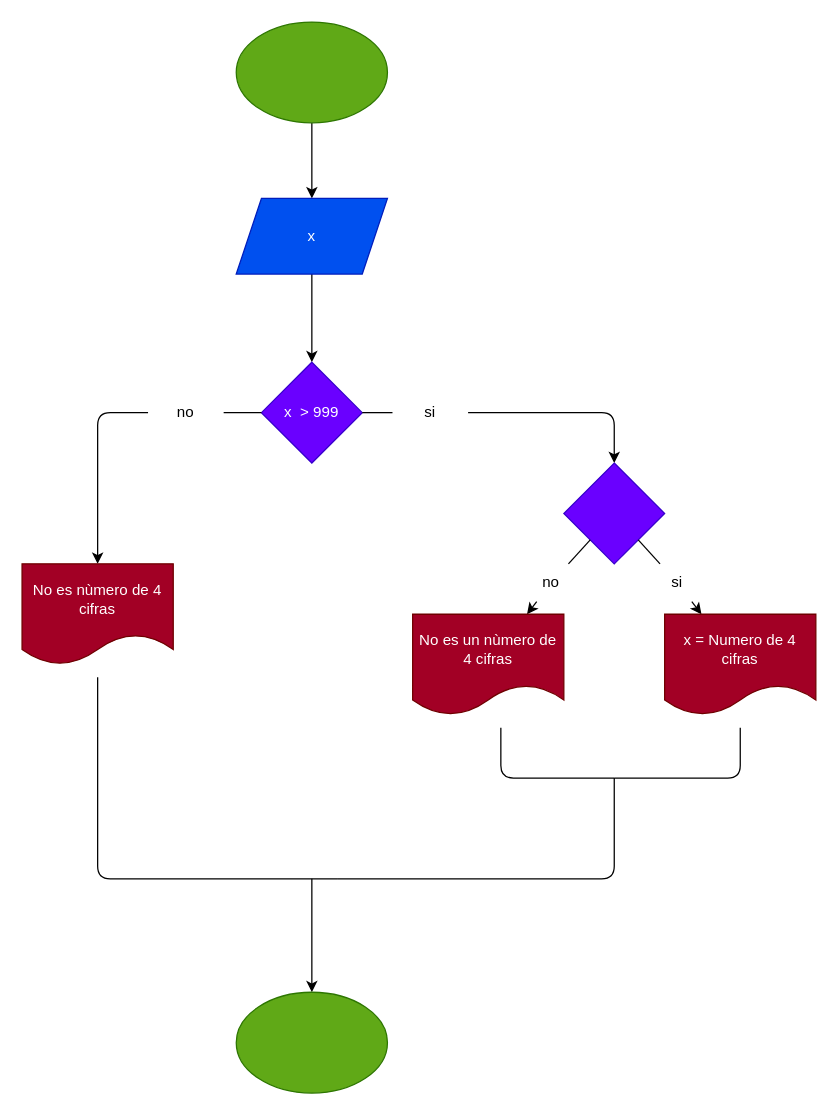
Image size: 838x1115. Some labels were removed from this diagram. The shapes that lost their labels are listed below. From the top down, each one's centre as x and y in pixels, then its label:
point (311, 72): inicio
point (614, 513): x < 10000
point (311, 1042): fin
